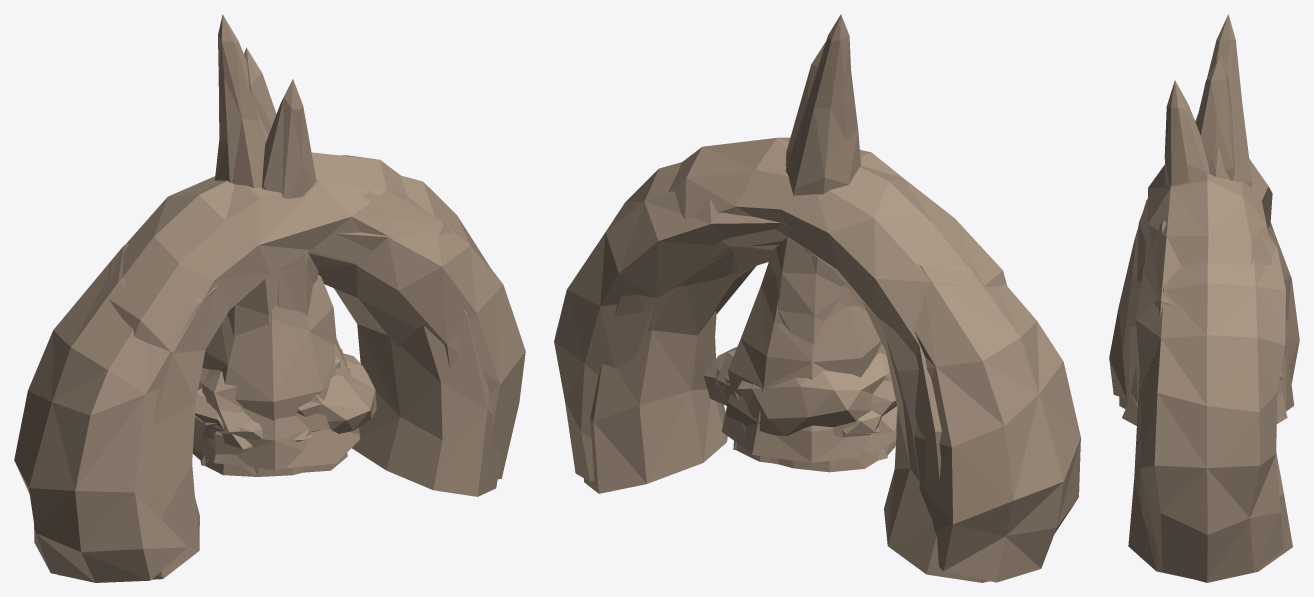
The model's file is rochers.glb.
The picture shows the model from 3 angles, left to right: view 1: azimuth 30°, elevation 25°; view 2: azimuth 150°, elevation 25°; view 3: azimuth 270°, elevation 25°; orthographic projection. The views are drawn at different scales.
Visible parts, largest first — view 1: arche_1, arche_0, aiguille_0, aiguille_2, aiguille_1, rocher_3, rocher_0, mesa_2; view 2: arche_0, arche_1, aiguille_2, aiguille_0, rocher_3, aiguille_1, rocher_0, mesa_0; view 3: arche_0, arche_1, aiguille_1, aiguille_2, aiguille_0, rocher_3.
Boxes of the visible parts, left/top/right/bottom form: arche_1: left=59, top=152, right=501, bottom=579; arche_0: left=14, top=175, right=525, bottom=582; aiguille_0: left=202, top=47, right=336, bottom=431; aiguille_2: left=193, top=14, right=360, bottom=468; aiguille_1: left=207, top=79, right=358, bottom=470; rocher_3: left=194, top=353, right=376, bottom=449; rocher_0: left=195, top=388, right=311, bottom=441; mesa_2: left=204, top=456, right=303, bottom=476; arche_0: left=554, top=162, right=1080, bottom=582; arche_1: left=583, top=137, right=1007, bottom=582; aiguille_2: left=721, top=14, right=896, bottom=456; aiguille_0: left=728, top=42, right=886, bottom=423; rocher_3: left=703, top=347, right=897, bottom=437; aiguille_1: left=726, top=394, right=869, bottom=462; rocher_0: left=716, top=367, right=896, bottom=435; mesa_0: left=778, top=452, right=877, bottom=472; arche_0: left=1109, top=199, right=1299, bottom=582; arche_1: left=1119, top=159, right=1294, bottom=578; aiguille_1: left=1164, top=80, right=1287, bottom=423; aiguille_2: left=1122, top=14, right=1277, bottom=425; aiguille_0: left=1196, top=54, right=1279, bottom=391; rocher_3: left=1130, top=362, right=1283, bottom=407.
Bounding box in the file's own units: 6.95 × 7.08 × 2.65.
